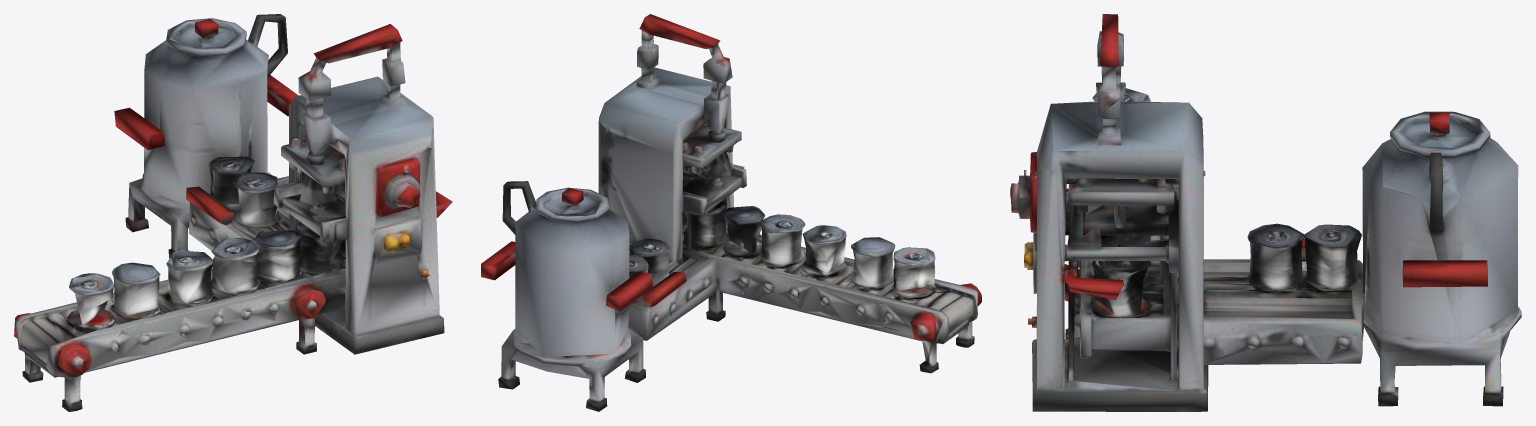
The model's file is guantouji-3.glb.
3 renders of one model, left to right at view 1: azimuth 30°, elevation 25°; view 2: azimuth 150°, elevation 25°; view 3: azimuth 270°, elevation 25°, orthographic. The views are drawn at different scales.
Visible parts, largest first — view 1: node_0; view 2: node_0; view 3: node_0.
Boxes of the visible parts, x1,y1,x2,y2 form: node_0: (14, 14, 452, 411); node_0: (481, 14, 981, 411); node_0: (1010, 14, 1521, 411).
Bounding box in the file's own units: 0.8591 × 0.604 × 0.7808.
1 material, 1 textured.
